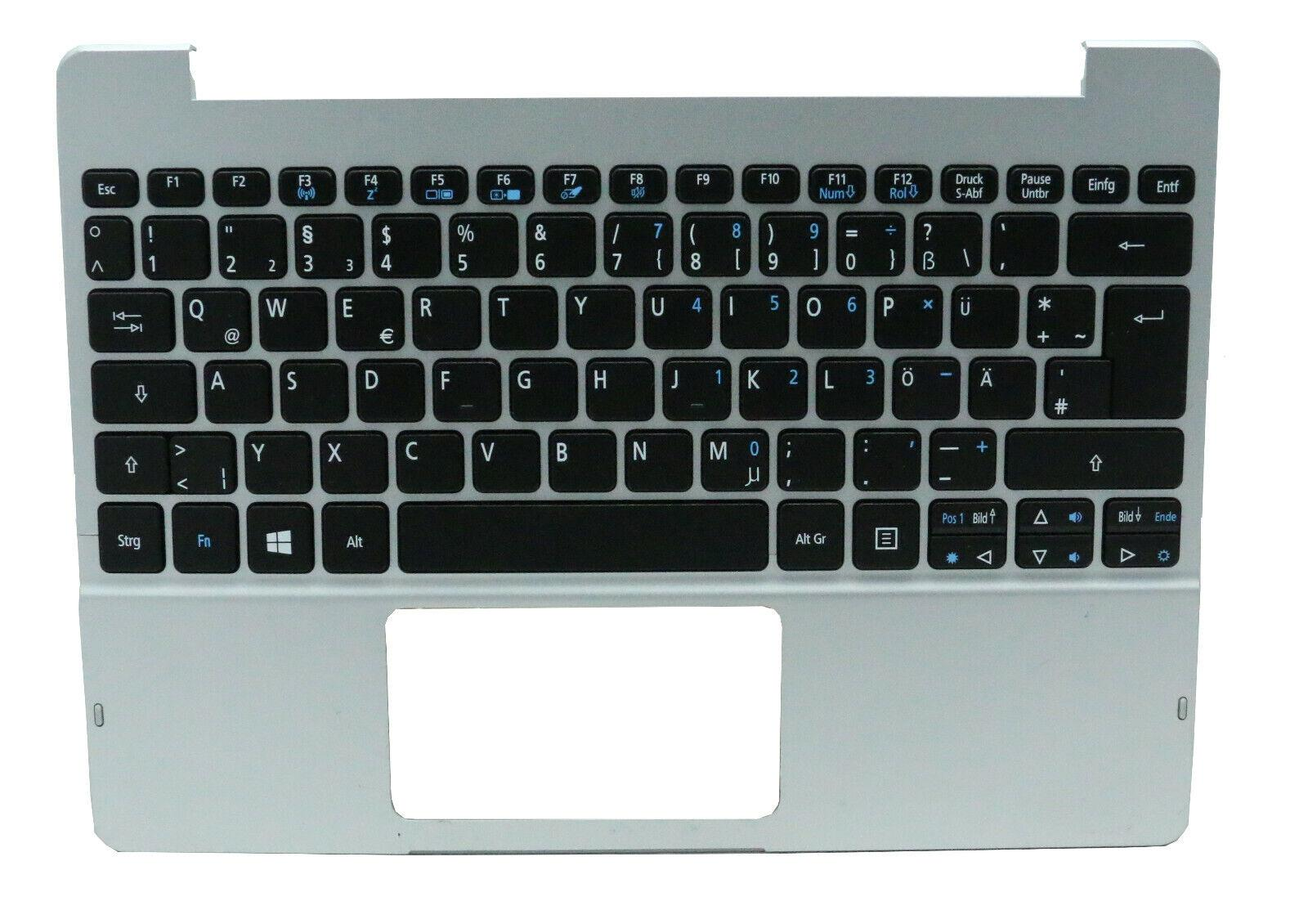0: (837, 212, 906, 278)
1: (141, 216, 212, 281)
2: (217, 216, 289, 280)
3: (293, 214, 365, 280)
4: (372, 213, 442, 278)
5: (450, 213, 518, 279)
6: (527, 212, 595, 279)
7: (605, 213, 673, 280)
8: (682, 213, 752, 279)
9: (759, 212, 829, 277)
a: (204, 360, 274, 424)
accent: (991, 212, 1060, 278)
ae: (968, 357, 1037, 420)
alt-left: (322, 502, 390, 575)
altgr-right: (777, 499, 846, 572)
b: (549, 429, 618, 493)
c: (396, 431, 465, 493)
caret: (83, 216, 135, 281)
comma: (777, 428, 845, 492)
d: (356, 359, 426, 424)
del: (1066, 213, 1194, 278)
e: (335, 287, 406, 352)
enter: (1118, 285, 1191, 420)
f: (432, 357, 502, 424)
g: (509, 357, 578, 423)
h: (586, 357, 654, 422)
hash: (1043, 356, 1114, 420)
i: (720, 284, 790, 350)
j: (662, 357, 732, 421)
k: (739, 357, 809, 422)
keyboard: (65, 142, 1209, 593)
l: (816, 356, 885, 421)
less: (168, 431, 238, 495)
m: (701, 428, 770, 492)
minus: (929, 428, 997, 491)
n: (625, 429, 693, 493)
o: (798, 285, 867, 351)
oe: (893, 357, 960, 421)
p: (874, 284, 944, 350)
plus: (1027, 284, 1095, 349)
point: (853, 428, 921, 491)
q: (182, 288, 252, 353)
r: (411, 286, 482, 351)
s: (280, 360, 349, 424)
shift-left: (93, 432, 166, 495)
shift-lock: (90, 361, 199, 424)
shift-right: (1004, 428, 1185, 490)
space: (396, 498, 771, 572)
ss: (913, 212, 983, 279)
strg-left: (96, 502, 167, 573)
t: (489, 285, 559, 351)
tab: (87, 288, 175, 354)
u: (644, 285, 713, 349)
ue: (951, 285, 1019, 350)
v: (473, 429, 542, 493)
w: (259, 288, 328, 352)
x: (320, 430, 390, 495)
y: (244, 431, 313, 496)
z: (567, 285, 636, 351)
